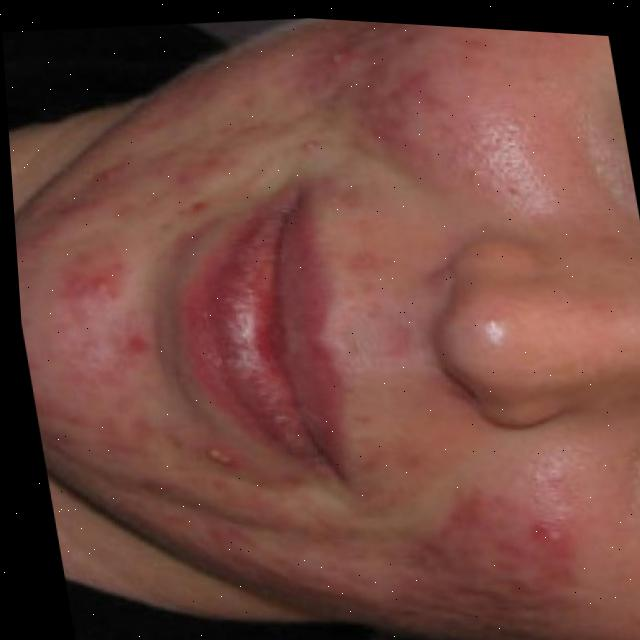Acne: (173, 444, 624, 640), (264, 16, 553, 226), (15, 223, 203, 498)
